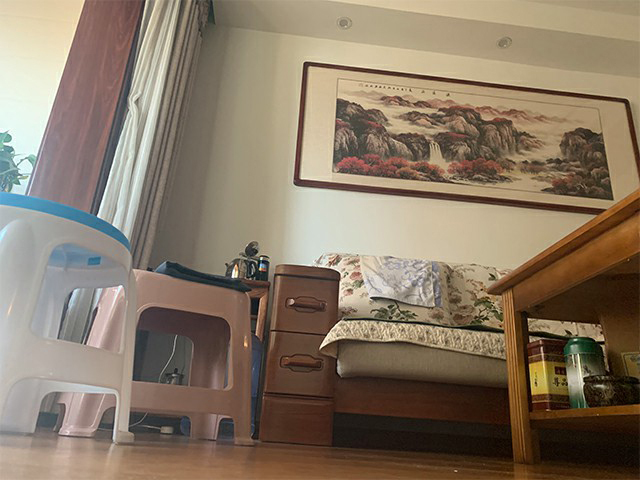sofa: (259, 252, 508, 448)
stool: (53, 264, 254, 447), (1, 191, 137, 447)
table: (484, 187, 640, 467)
